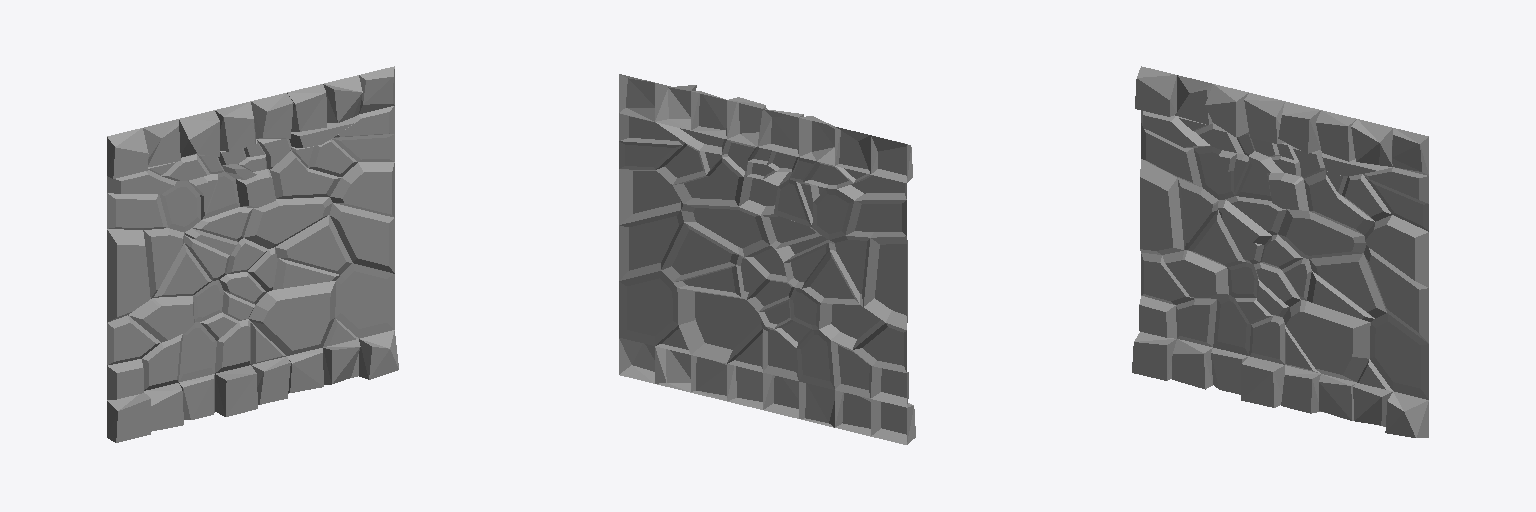
The model's file is wall_v2_OLD.obj.
3 renders of one model, left to right at view 1: azimuth 30°, elevation 25°; view 2: azimuth 150°, elevation 25°; view 3: azimuth 330°, elevation 25°, orthographic.
Parts seen in each view (by area): view 1: wall_v2_Cube.008; view 2: wall_v2_Cube.008; view 3: wall_v2_Cube.008.
Boxes of the visible parts, box(x1,y1,x2,y2) form: wall_v2_Cube.008: box(107, 66, 398, 442); wall_v2_Cube.008: box(619, 74, 915, 444); wall_v2_Cube.008: box(1132, 66, 1428, 437).
Size of the model in its own units: 2 by 2 by 0.1241.